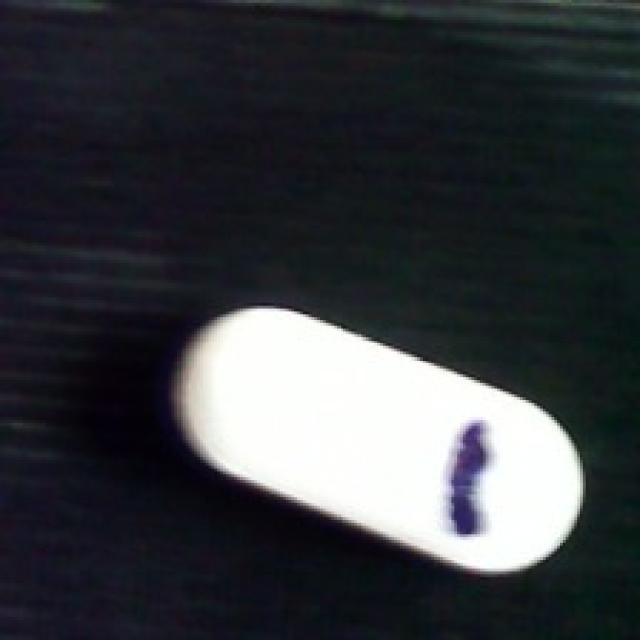defected: (163, 302, 591, 574)
